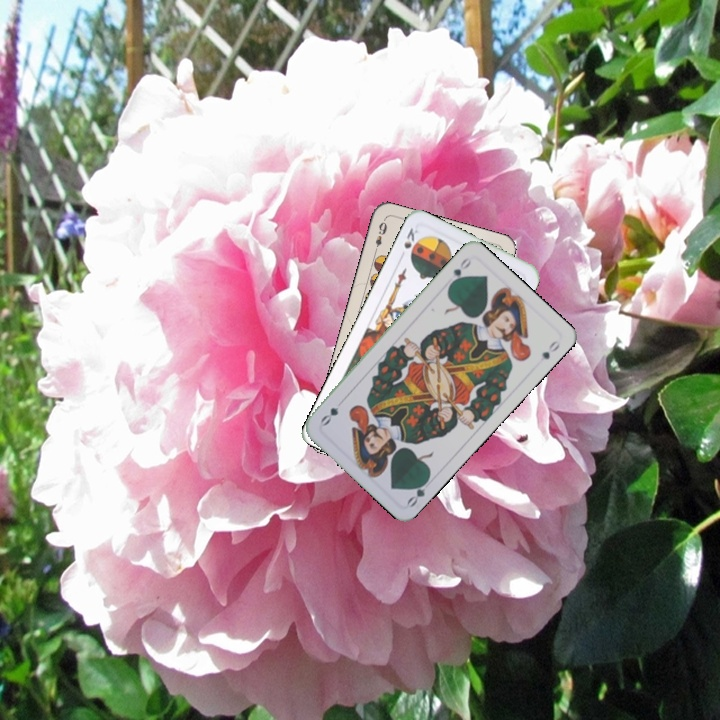E9: (370, 218, 390, 256)
GO: (403, 473, 436, 510), (445, 253, 474, 289)
SK: (400, 223, 421, 259)
